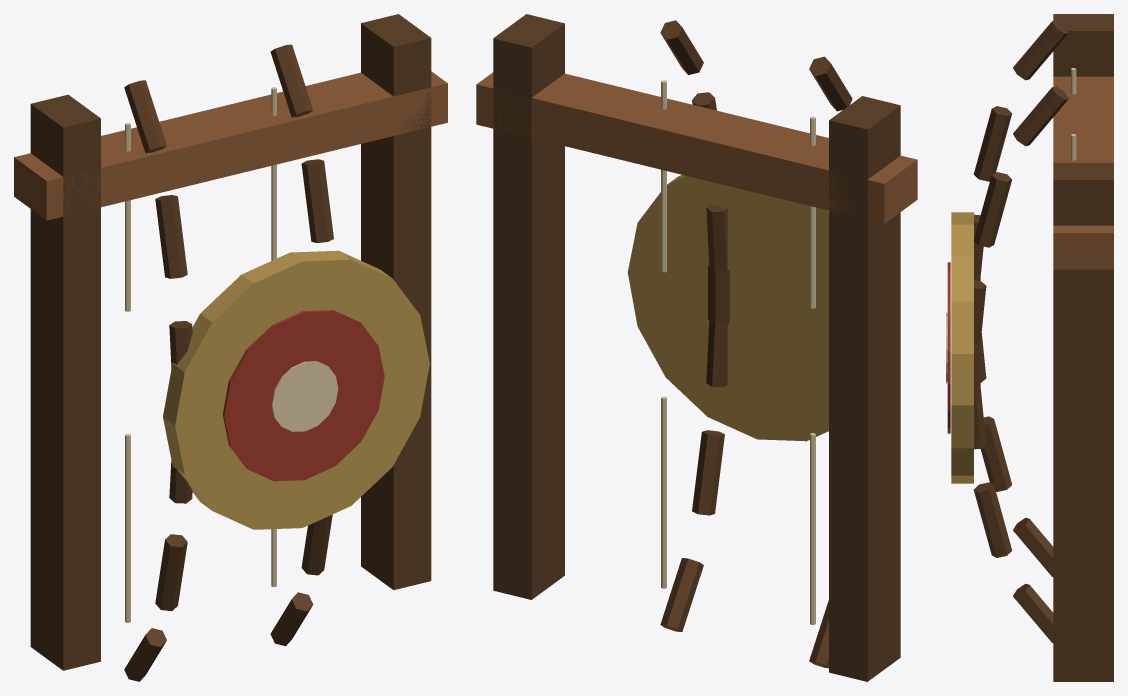
The model's file is bow-rack.glb.
3 views of the same model, side by side, from view 1: azimuth 30°, elevation 25°; view 2: azimuth 150°, elevation 25°; view 3: azimuth 270°, elevation 25° (orthographic). The views are drawn at different scales.
Visible parts, largest first — view 1: Gestellpfosten, Übungsziel, Gestellpfosten.001, Gestellriegel, Cylinder, Cylinder.001, Bogenholz.010, Bogenholz.004, Bogenholz.001, Bogenholz.011, Bogenholz.005, Bogenholz.007 (+7 smaller); view 2: Gestellpfosten, Gestellpfosten.001, Übungsziel, Gestellriegel, Bogenholz.007, Bogenholz.006, Bogenholz.008, Bogenholz.009, Bogenholz.011, Bogenholz.005, Griff.001, Sehne_Unten.001 (+4 smaller); view 3: Gestellpfosten.001, Gestellriegel, Übungsziel, Gestellpfosten, Bogenholz.010, Bogenholz.007, Bogenholz.004, Bogenholz.011, Bogenholz.005, Bogenholz.001, Bogenholz, Bogenholz.006 (+5 smaller).
Boxes of the visible parts, x1,y1,x2,y2 form: Gestellpfosten: (30, 94, 100, 670); Übungsziel: (163, 250, 429, 529); Gestellpfosten.001: (361, 14, 431, 590); Gestellriegel: (14, 71, 447, 220); Cylinder: (222, 310, 384, 481); Cylinder.001: (271, 361, 338, 431); Bogenholz.010: (301, 159, 333, 243); Bogenholz.004: (155, 195, 187, 278); Bogenholz.001: (155, 534, 187, 610); Bogenholz.011: (270, 44, 313, 117); Bogenholz.005: (124, 80, 166, 153); Bogenholz.007: (301, 514, 332, 575); Gestellpfosten: (829, 96, 900, 681); Gestellpfosten.001: (493, 14, 564, 599); Übungsziel: (627, 175, 828, 441); Gestellriegel: (476, 72, 917, 223); Bogenholz.007: (692, 430, 724, 515); Bogenholz.006: (660, 558, 703, 631); Bogenholz.008: (706, 319, 727, 387); Bogenholz.009: (706, 204, 727, 271); Bogenholz.011: (660, 20, 703, 74); Bogenholz.005: (809, 56, 852, 111); Griff.001: (708, 265, 729, 324); Sehne_Unten.001: (661, 396, 666, 588); Gestellpfosten.001: (1053, 163, 1113, 681); Gestellriegel: (1053, 76, 1113, 269); Übungsziel: (951, 212, 973, 483); Gestellpfosten: (1053, 14, 1113, 76); Bogenholz.010: (973, 172, 1012, 247); Bogenholz.007: (973, 482, 1012, 557); Bogenholz.004: (973, 106, 1012, 181); Bogenholz.011: (1013, 86, 1068, 146); Bogenholz.005: (1013, 20, 1068, 80); Bogenholz.001: (980, 416, 1012, 491); Bogenholz: (1013, 517, 1053, 576); Bogenholz.006: (1013, 583, 1053, 642).
Bounding box in the file's own units: 0.85 × 1.22 × 0.333.
